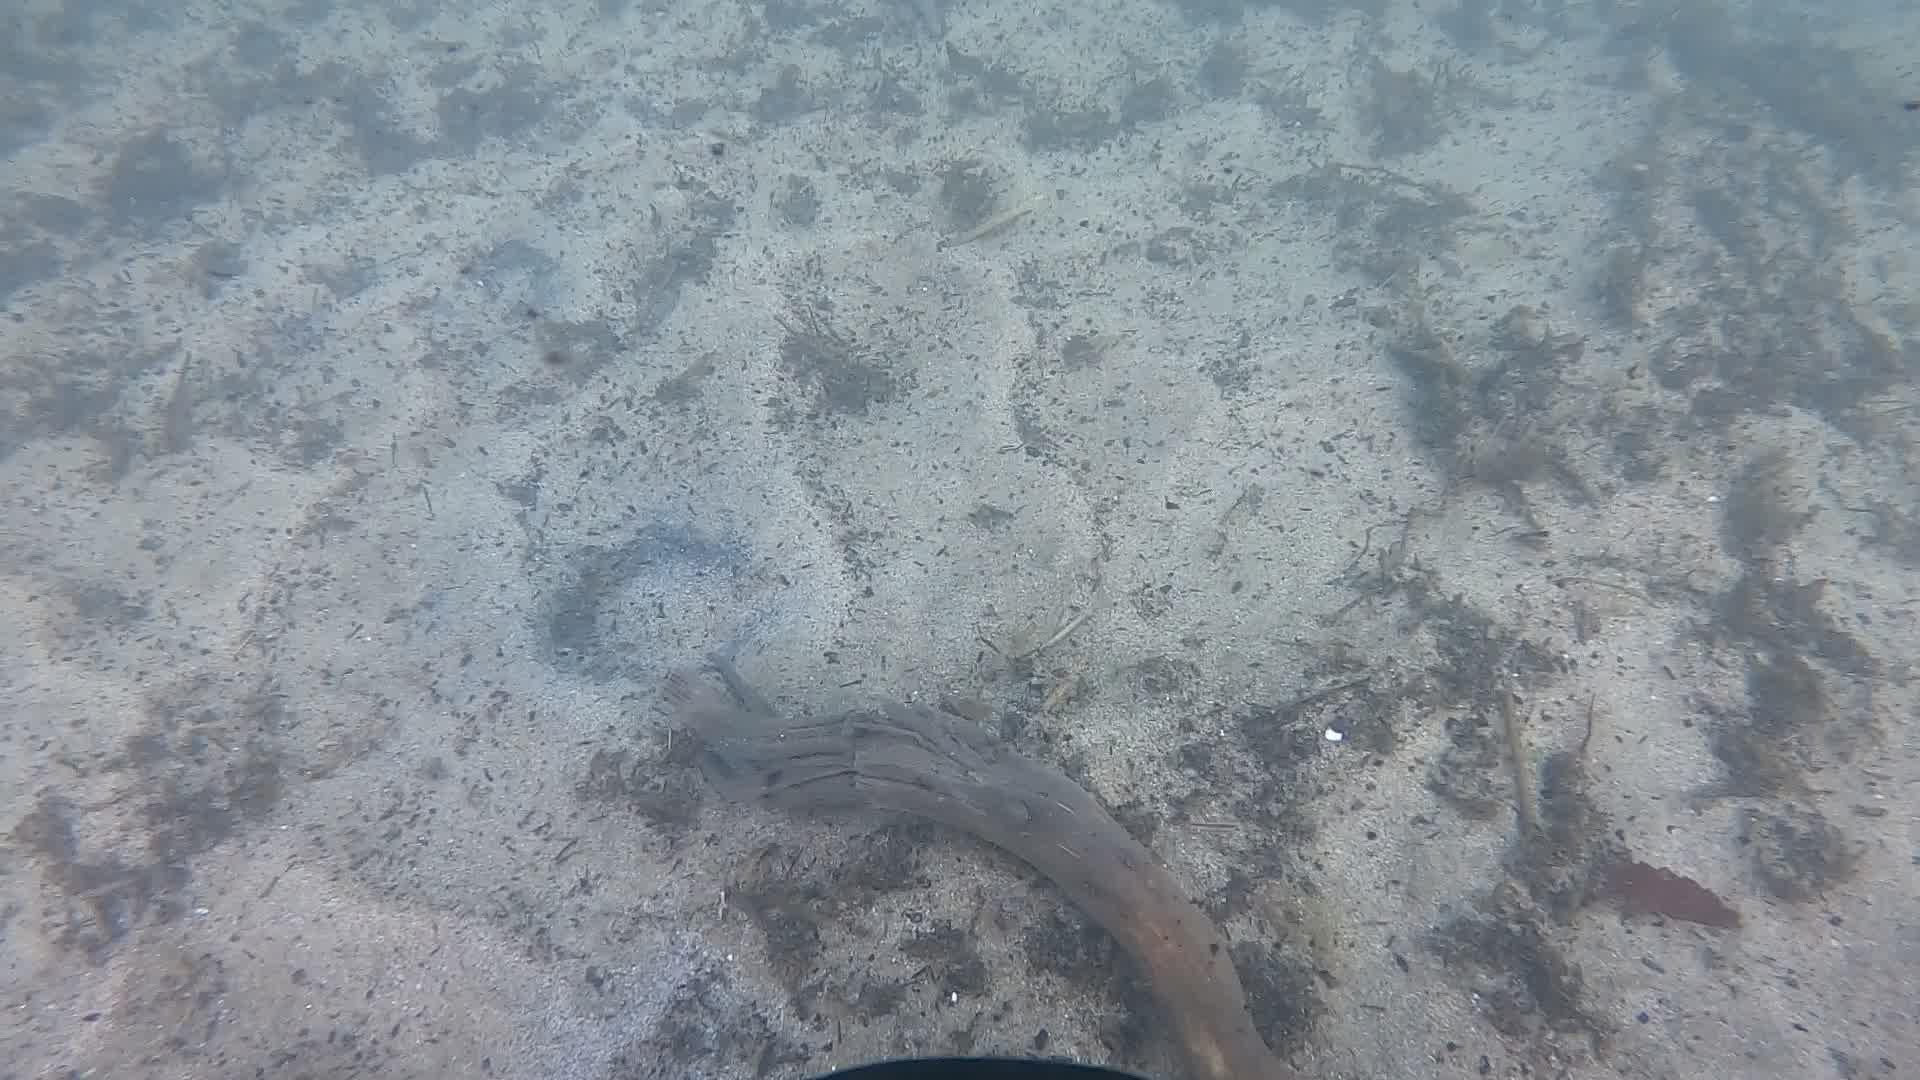wood: (694, 715, 1265, 1080)
